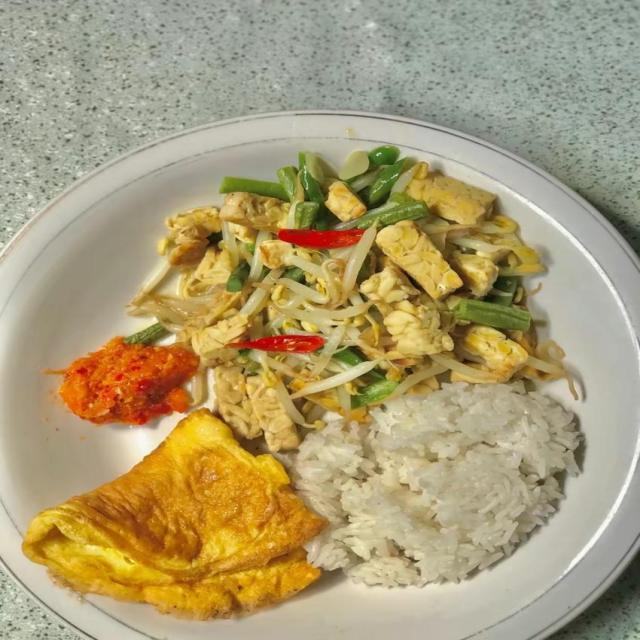Egg: (17, 412, 321, 622)
Plate: (0, 115, 639, 639)
Rice: (302, 375, 577, 589)
Vegetables: (129, 148, 587, 455)
